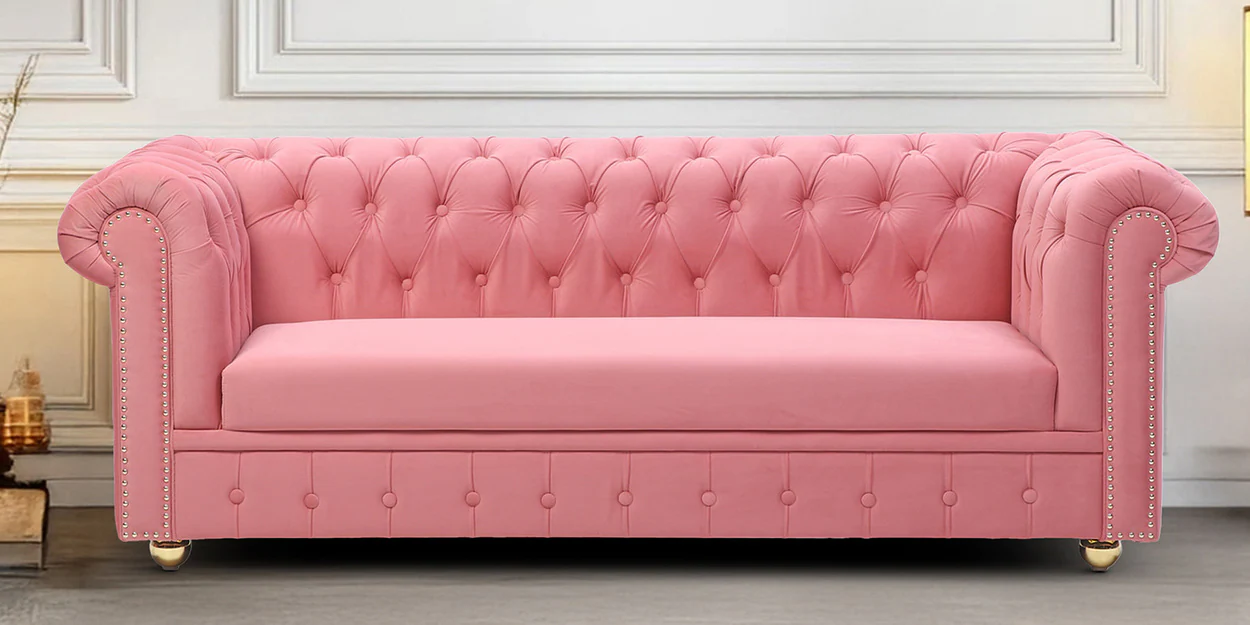3seatersofa: (59, 131, 1218, 571)
backrest: (201, 133, 1053, 323)
base: (169, 451, 1100, 539)
leftarmrest: (1012, 132, 1217, 540)
leg: (1081, 540, 1120, 571), (149, 540, 189, 570)
rightarmrest: (60, 150, 249, 540)
seat: (220, 317, 1075, 432)
